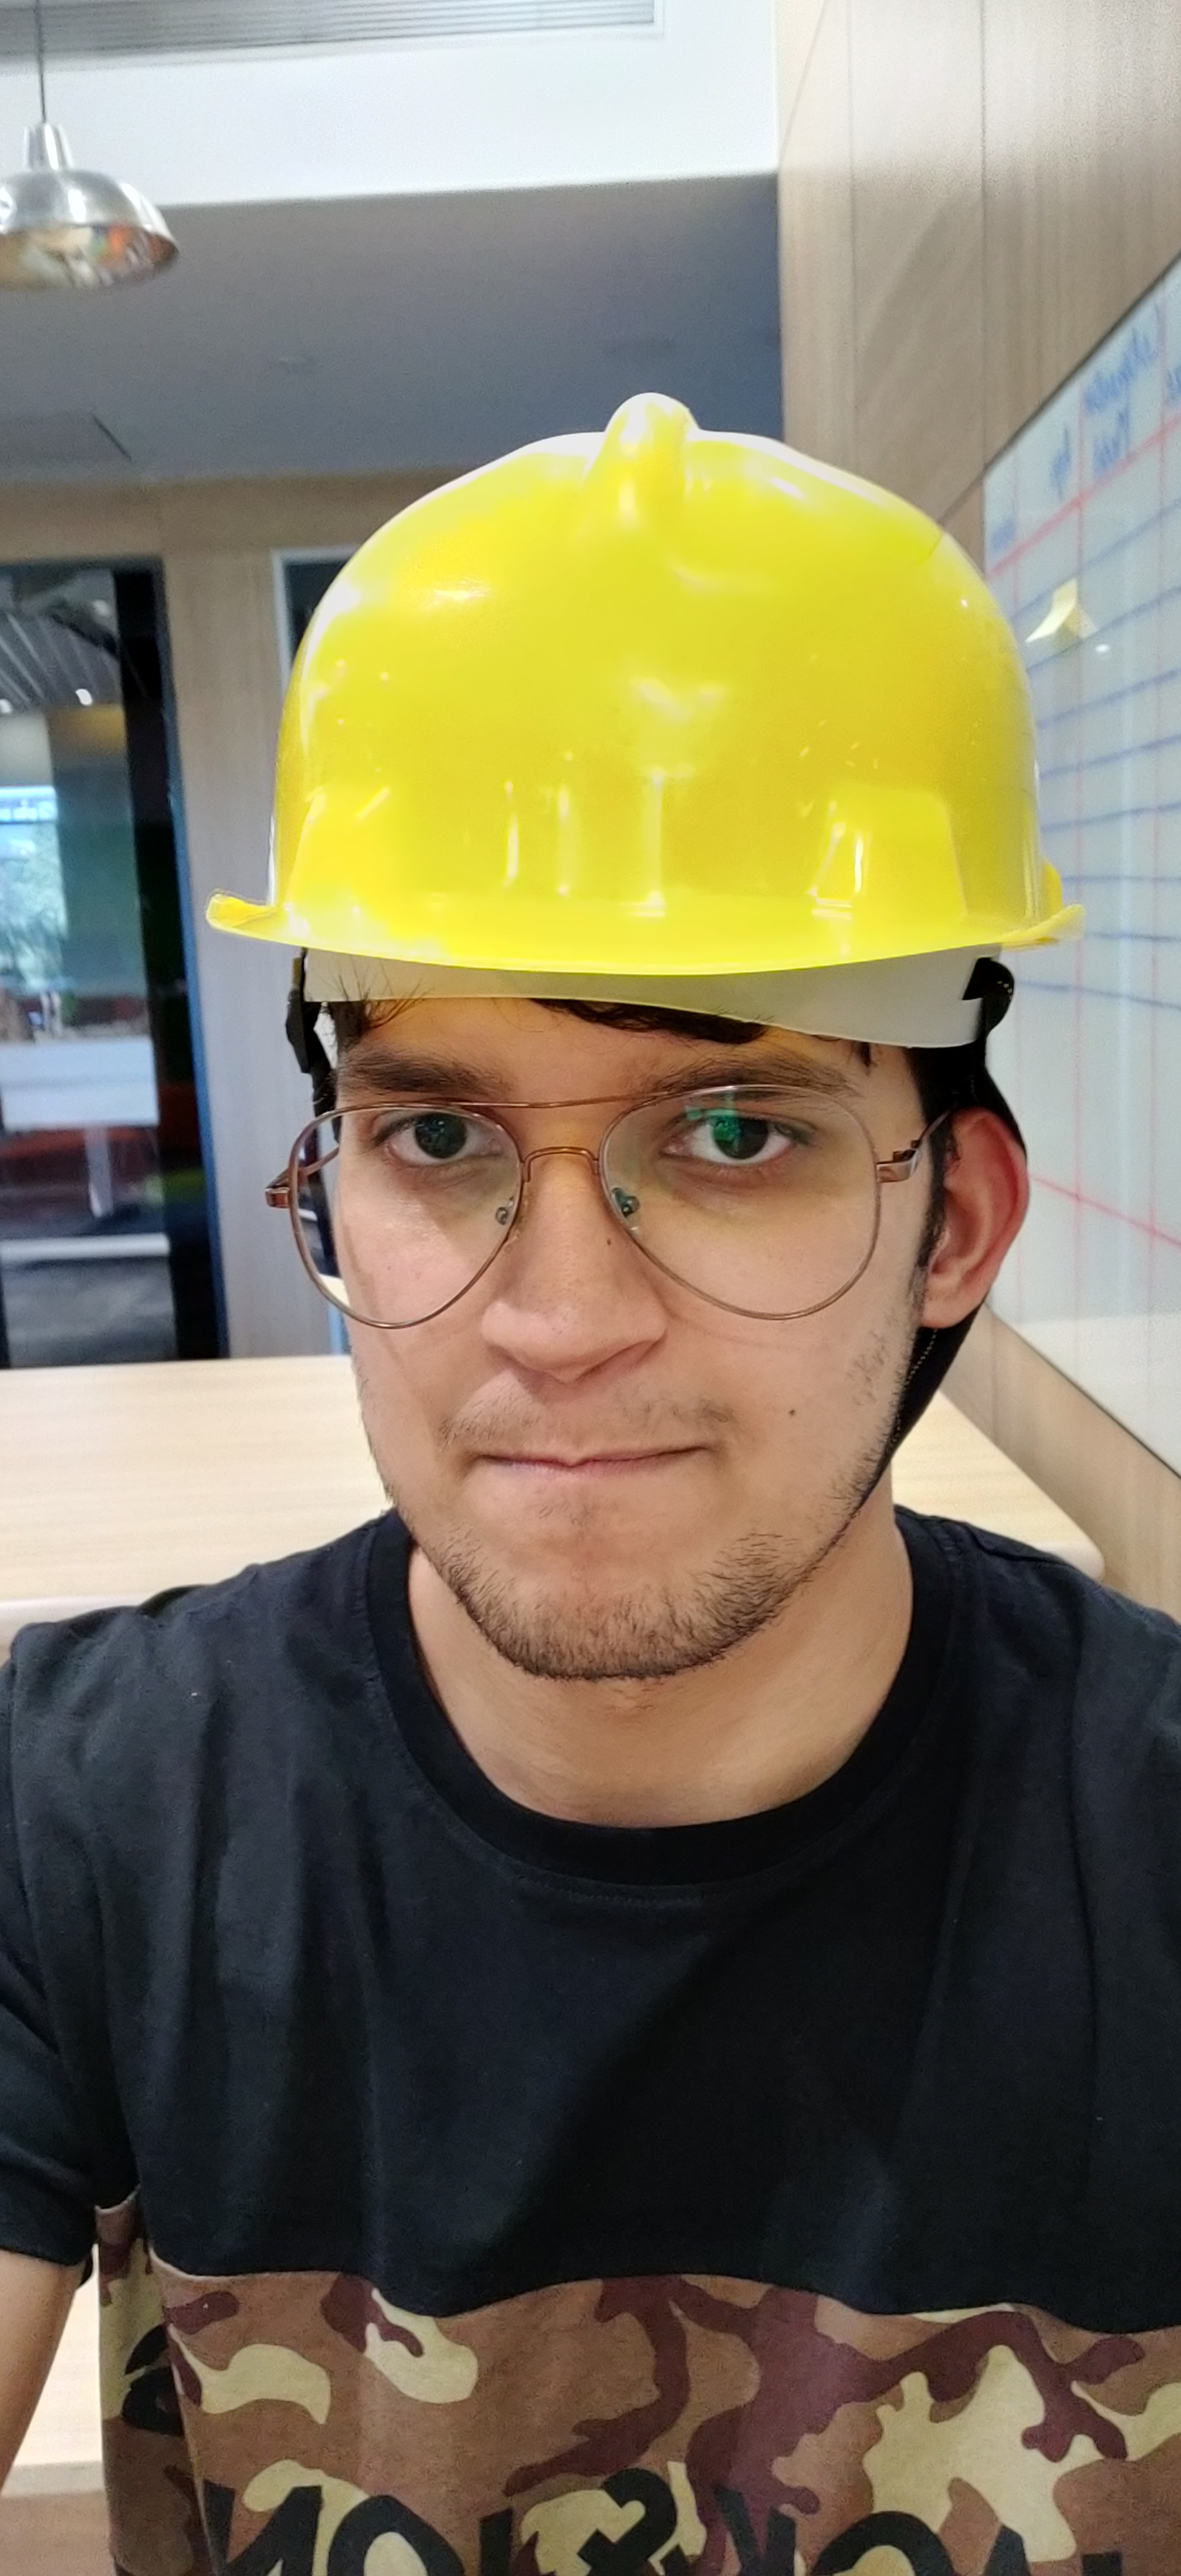Person_wearing_helmet: (205, 382, 1171, 1257)
